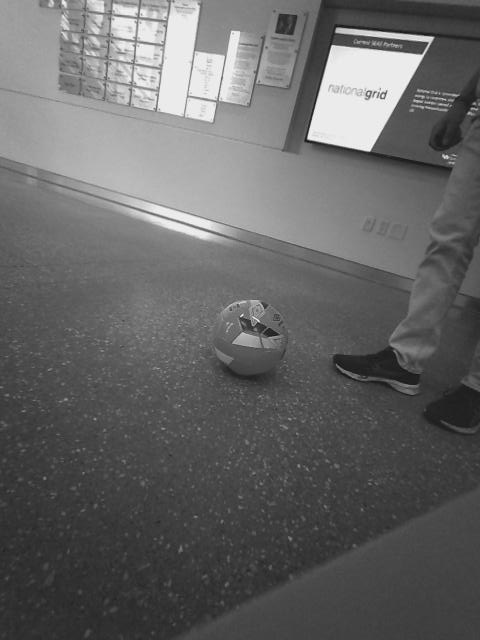ball: (210, 297, 293, 377)
